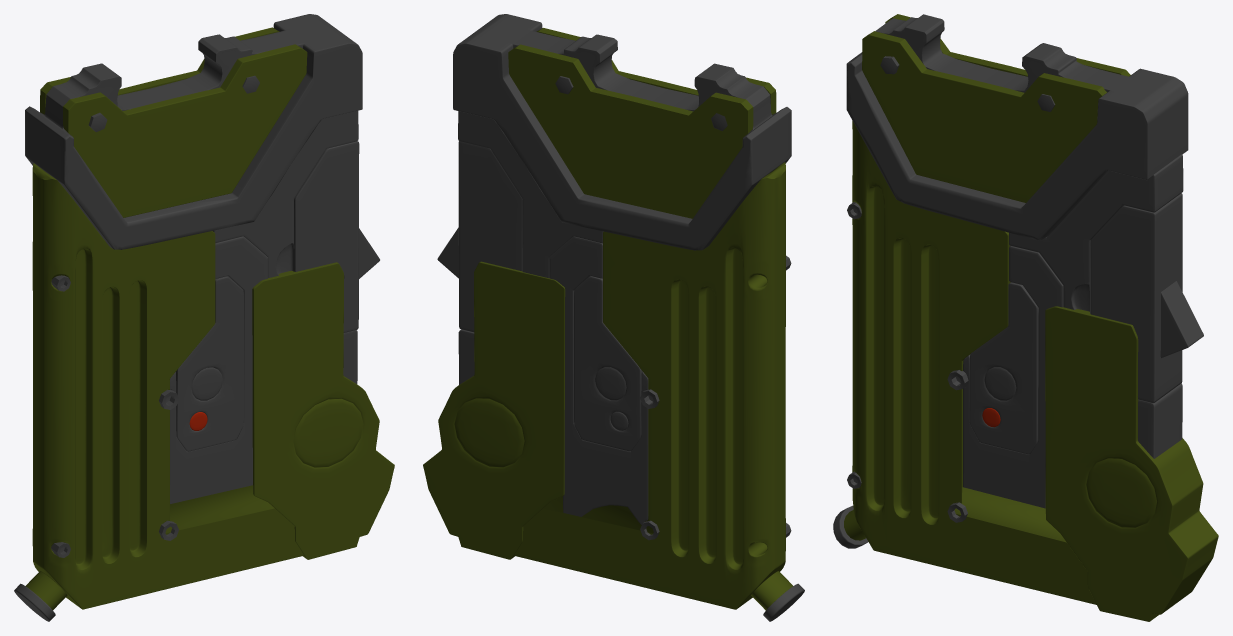
The picture shows the model from 3 angles, left to right: view 1: azimuth 30°, elevation 25°; view 2: azimuth 150°, elevation 25°; view 3: azimuth 330°, elevation 25°; orthographic projection.
Visible parts, largest first — view 1: ArribaAmarillo2, AmarilloAtras, RelieveNegroYRellenoFrente, AmarilloFrente, NegroCirculitos, NegroArribaGatillo, Negro93, NegroAbajoGatillo, TornilloAmarillo5, AmarilloFrente1, Negro94; view 2: ArribaAmarillo2, AmarilloAtras, RelieveNegroYRellenoFrente, AmarilloFrente1, NegroArribaGatillo, NegroCirculitos, Negro93, NegroAbajoGatillo, TornilloAmarillo5, AmarilloFrente, Negro94; view 3: ArribaAmarillo2, AmarilloAtras, RelieveNegroYRellenoFrente, AmarilloFrente, Negro93, NegroAbajoGatillo, NegroCirculitos, NegroArribaGatillo, Negro94, TornilloAmarillo5, AmarilloFrente1.
Boxes of the visible parts, x1=… form: ArribaAmarillo2: x1=25, y1=163, x2=303, y2=609; AmarilloAtras: x1=252, y1=262, x2=394, y2=559; RelieveNegroYRellenoFrente: x1=25, y1=14, x2=362, y2=249; AmarilloFrente: x1=63, y1=44, x2=307, y2=217; NegroCirculitos: x1=176, y1=276, x2=243, y2=451; NegroArribaGatillo: x1=170, y1=236, x2=267, y2=503; Negro93: x1=294, y1=141, x2=359, y2=332; NegroAbajoGatillo: x1=213, y1=110, x2=358, y2=383; TornilloAmarillo5: x1=14, y1=75, x2=259, y2=621; AmarilloFrente1: x1=40, y1=27, x2=279, y2=114; Negro94: x1=359, y1=228, x2=379, y2=278; ArribaAmarillo2: x1=514, y1=162, x2=792, y2=610; AmarilloAtras: x1=423, y1=261, x2=565, y2=559; RelieveNegroYRellenoFrente: x1=453, y1=14, x2=791, y2=250; AmarilloFrente1: x1=508, y1=44, x2=753, y2=218; NegroArribaGatillo: x1=549, y1=236, x2=648, y2=524; NegroCirculitos: x1=574, y1=276, x2=641, y2=451; Negro93: x1=458, y1=141, x2=522, y2=332; NegroAbajoGatillo: x1=458, y1=111, x2=603, y2=384; TornilloAmarillo5: x1=555, y1=76, x2=804, y2=621; AmarilloFrente: x1=536, y1=28, x2=776, y2=114; Negro94: x1=437, y1=227, x2=458, y2=278; ArribaAmarillo2: x1=844, y1=121, x2=1096, y2=604; AmarilloAtras: x1=1045, y1=306, x2=1218, y2=621; RelieveNegroYRellenoFrente: x1=846, y1=14, x2=1188, y2=240; AmarilloFrente: x1=862, y1=31, x2=1106, y2=202; Negro93: x1=1090, y1=193, x2=1182, y2=403; NegroAbajoGatillo: x1=1009, y1=154, x2=1183, y2=458; NegroCirculitos: x1=969, y1=282, x2=1038, y2=454; NegroArribaGatillo: x1=963, y1=246, x2=1063, y2=508; Negro94: x1=1160, y1=281, x2=1203, y2=358; TornilloAmarillo5: x1=833, y1=56, x2=1055, y2=548; AmarilloFrente1: x1=885, y1=14, x2=1130, y2=76.
Bounding box in the file's own units: 2.89 × 4.08 × 0.5626.
